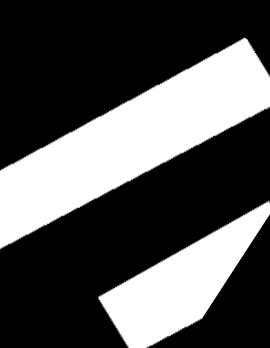parkingspot: (0, 38, 270, 249), (98, 201, 270, 348)
